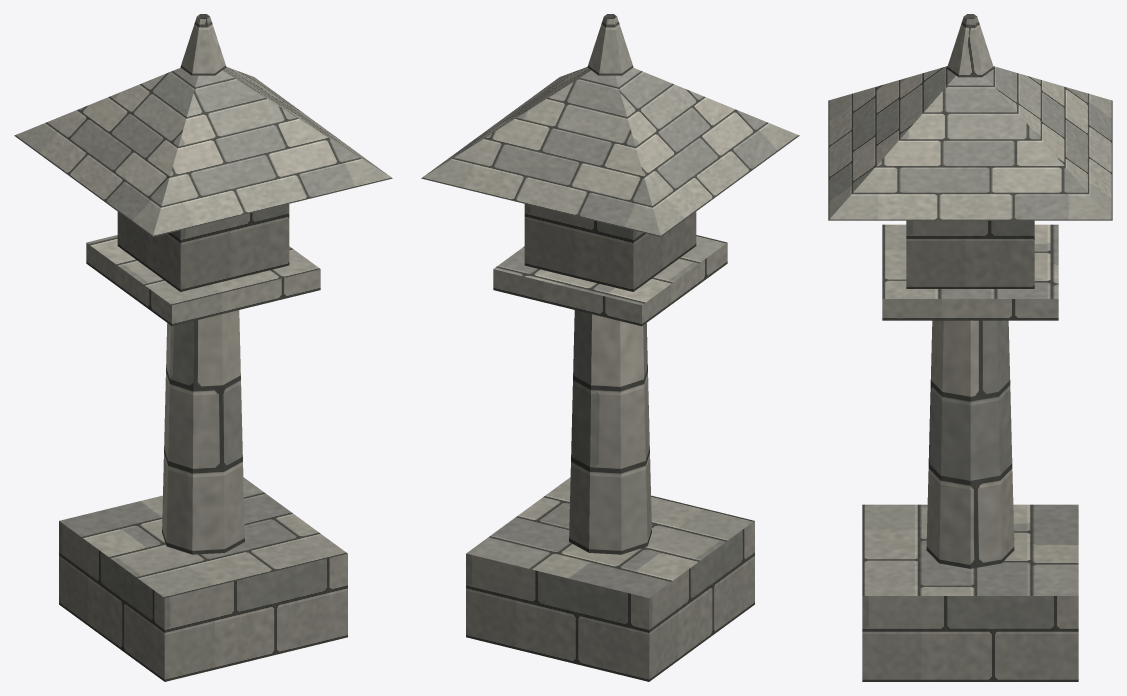
File: stone_lantern.glb
3 views of the same model, side by side, from view 1: azimuth 30°, elevation 25°; view 2: azimuth 150°, elevation 25°; view 3: azimuth 270°, elevation 25° (orthographic). The views are drawn at different scales.
Visible parts, largest first — view 1: stone_lantern; view 2: stone_lantern; view 3: stone_lantern.
Boxes of the visible parts, x1,y1,x2,y2 form: stone_lantern: [14, 14, 392, 681]; stone_lantern: [421, 14, 799, 681]; stone_lantern: [828, 14, 1112, 681].
Bounding box in the file's own units: 0.84 × 2.02 × 0.84.
Materials: 1 (1 with a texture image).
